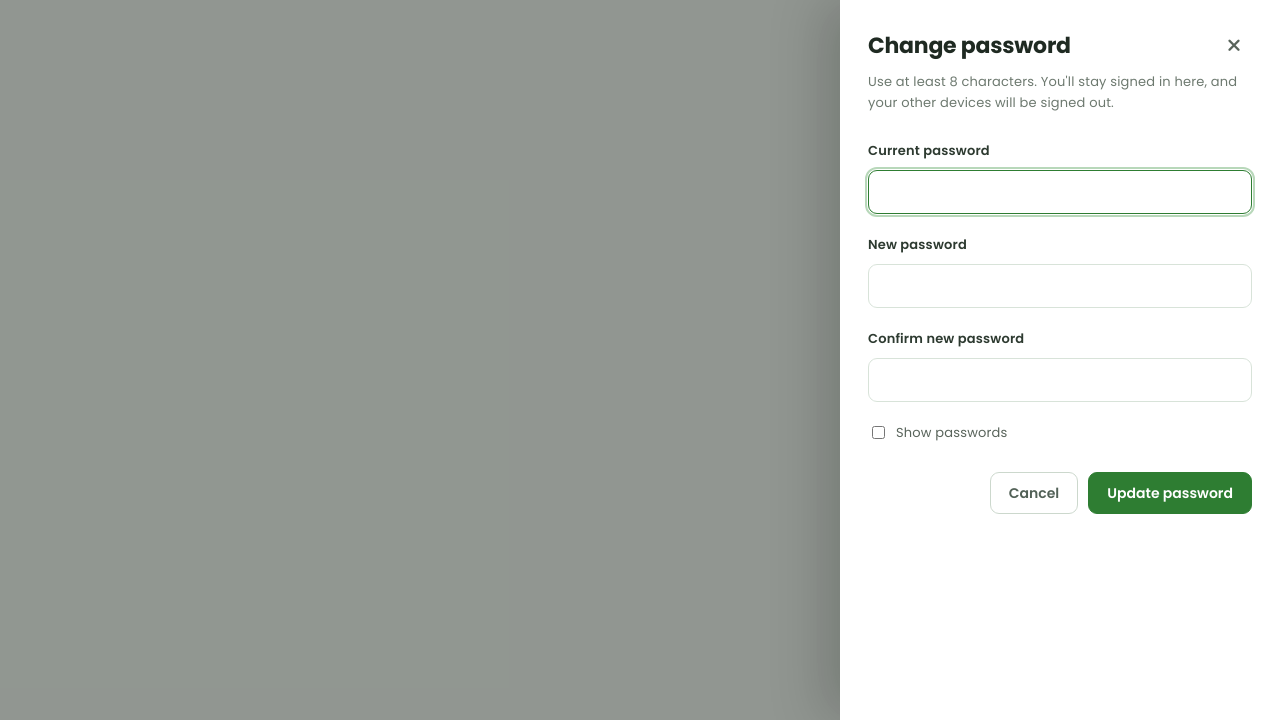
Test case: ChangePasswordPanel › keeps the panel open and explains a wrong current password
The width and height of the screenshot is (1280, 720).
Type "WrongPass1" into the password field labelled "Current password" at (1060, 192), box [868, 170, 1252, 214]
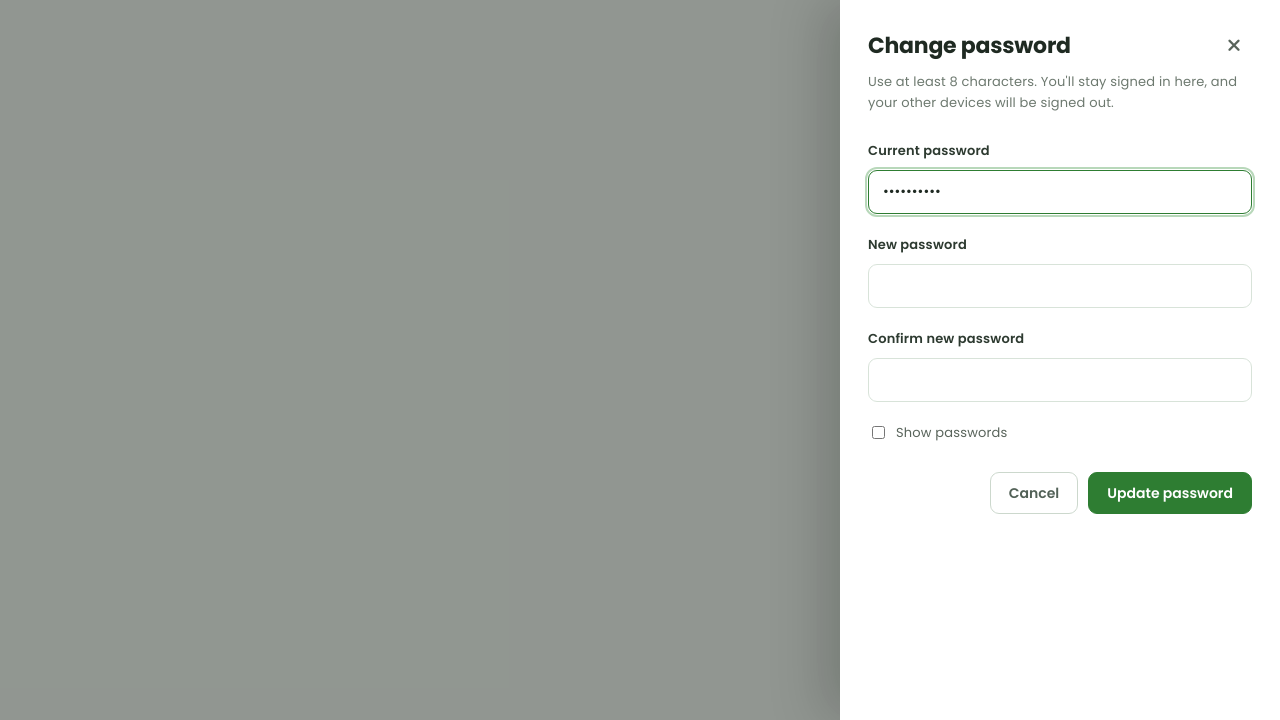
Type "NewPass456" into the password field labelled "New password" at (1060, 286), box [868, 264, 1252, 308]
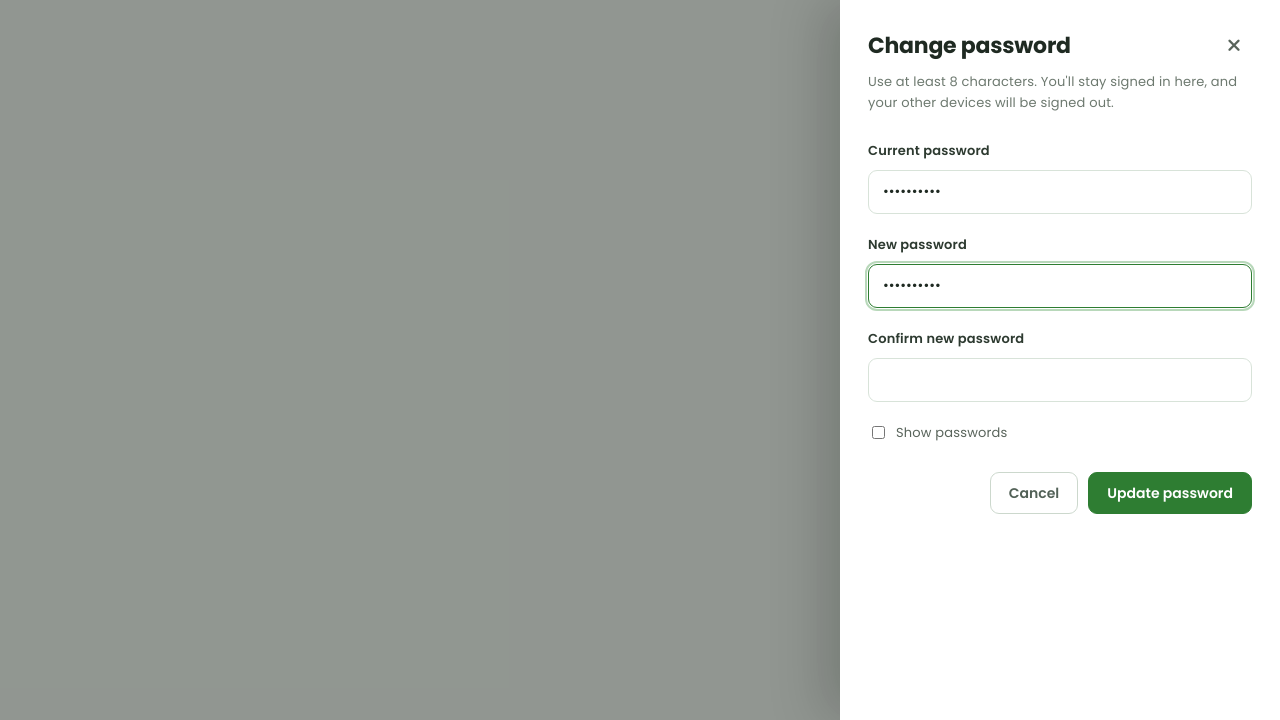
Type "NewPass456" into the password field labelled "Confirm new password" at (1060, 380), box [868, 358, 1252, 402]
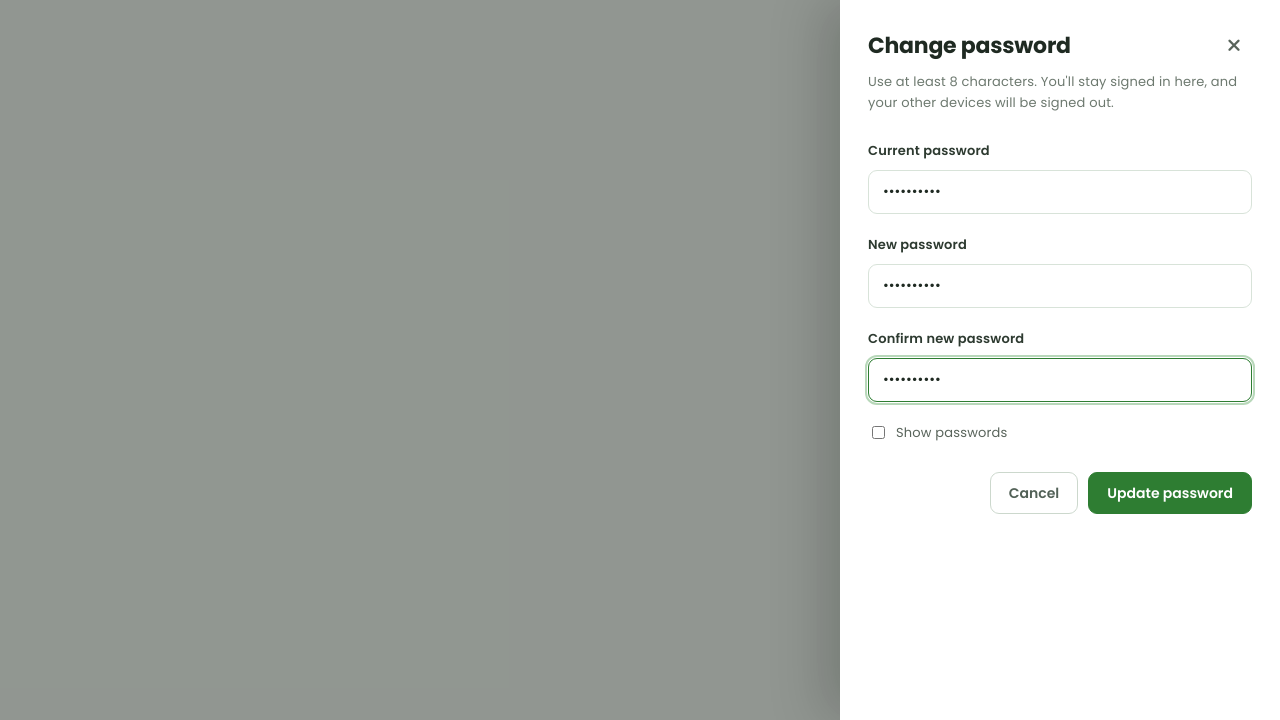
Click the button "Update password" at (1170, 493), box [1088, 472, 1252, 514]
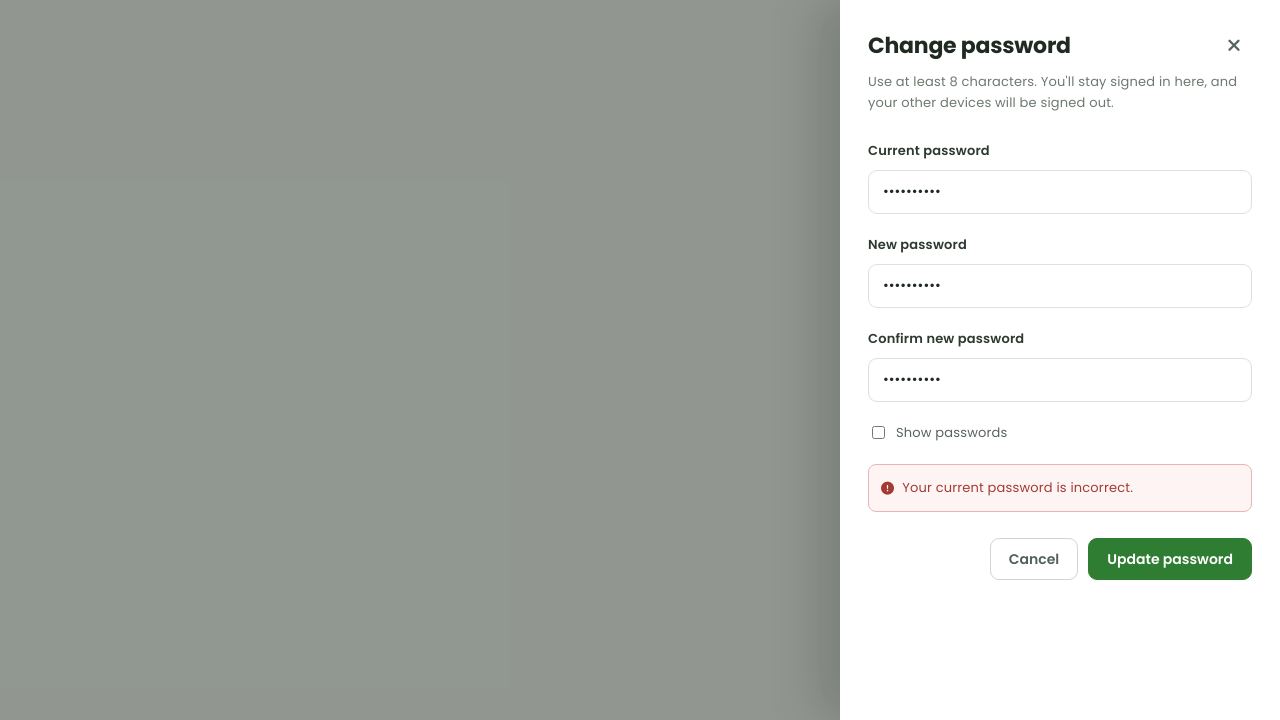
Expected: the button "Update password" is enabled, [1088, 538, 1252, 580]
Expected: the message reads "Your current password is incorrect.", [902, 478, 1133, 497]
